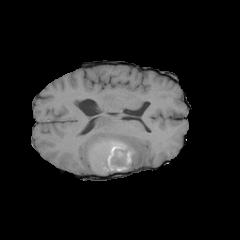glioma: (83, 116, 146, 175)
